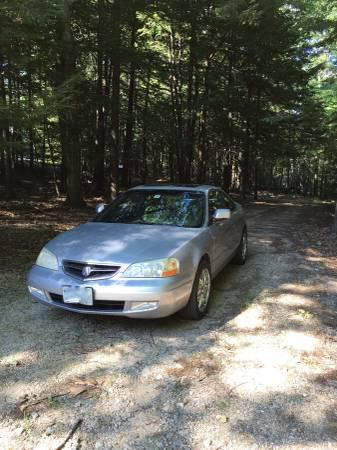acura: (24, 184, 249, 324)
